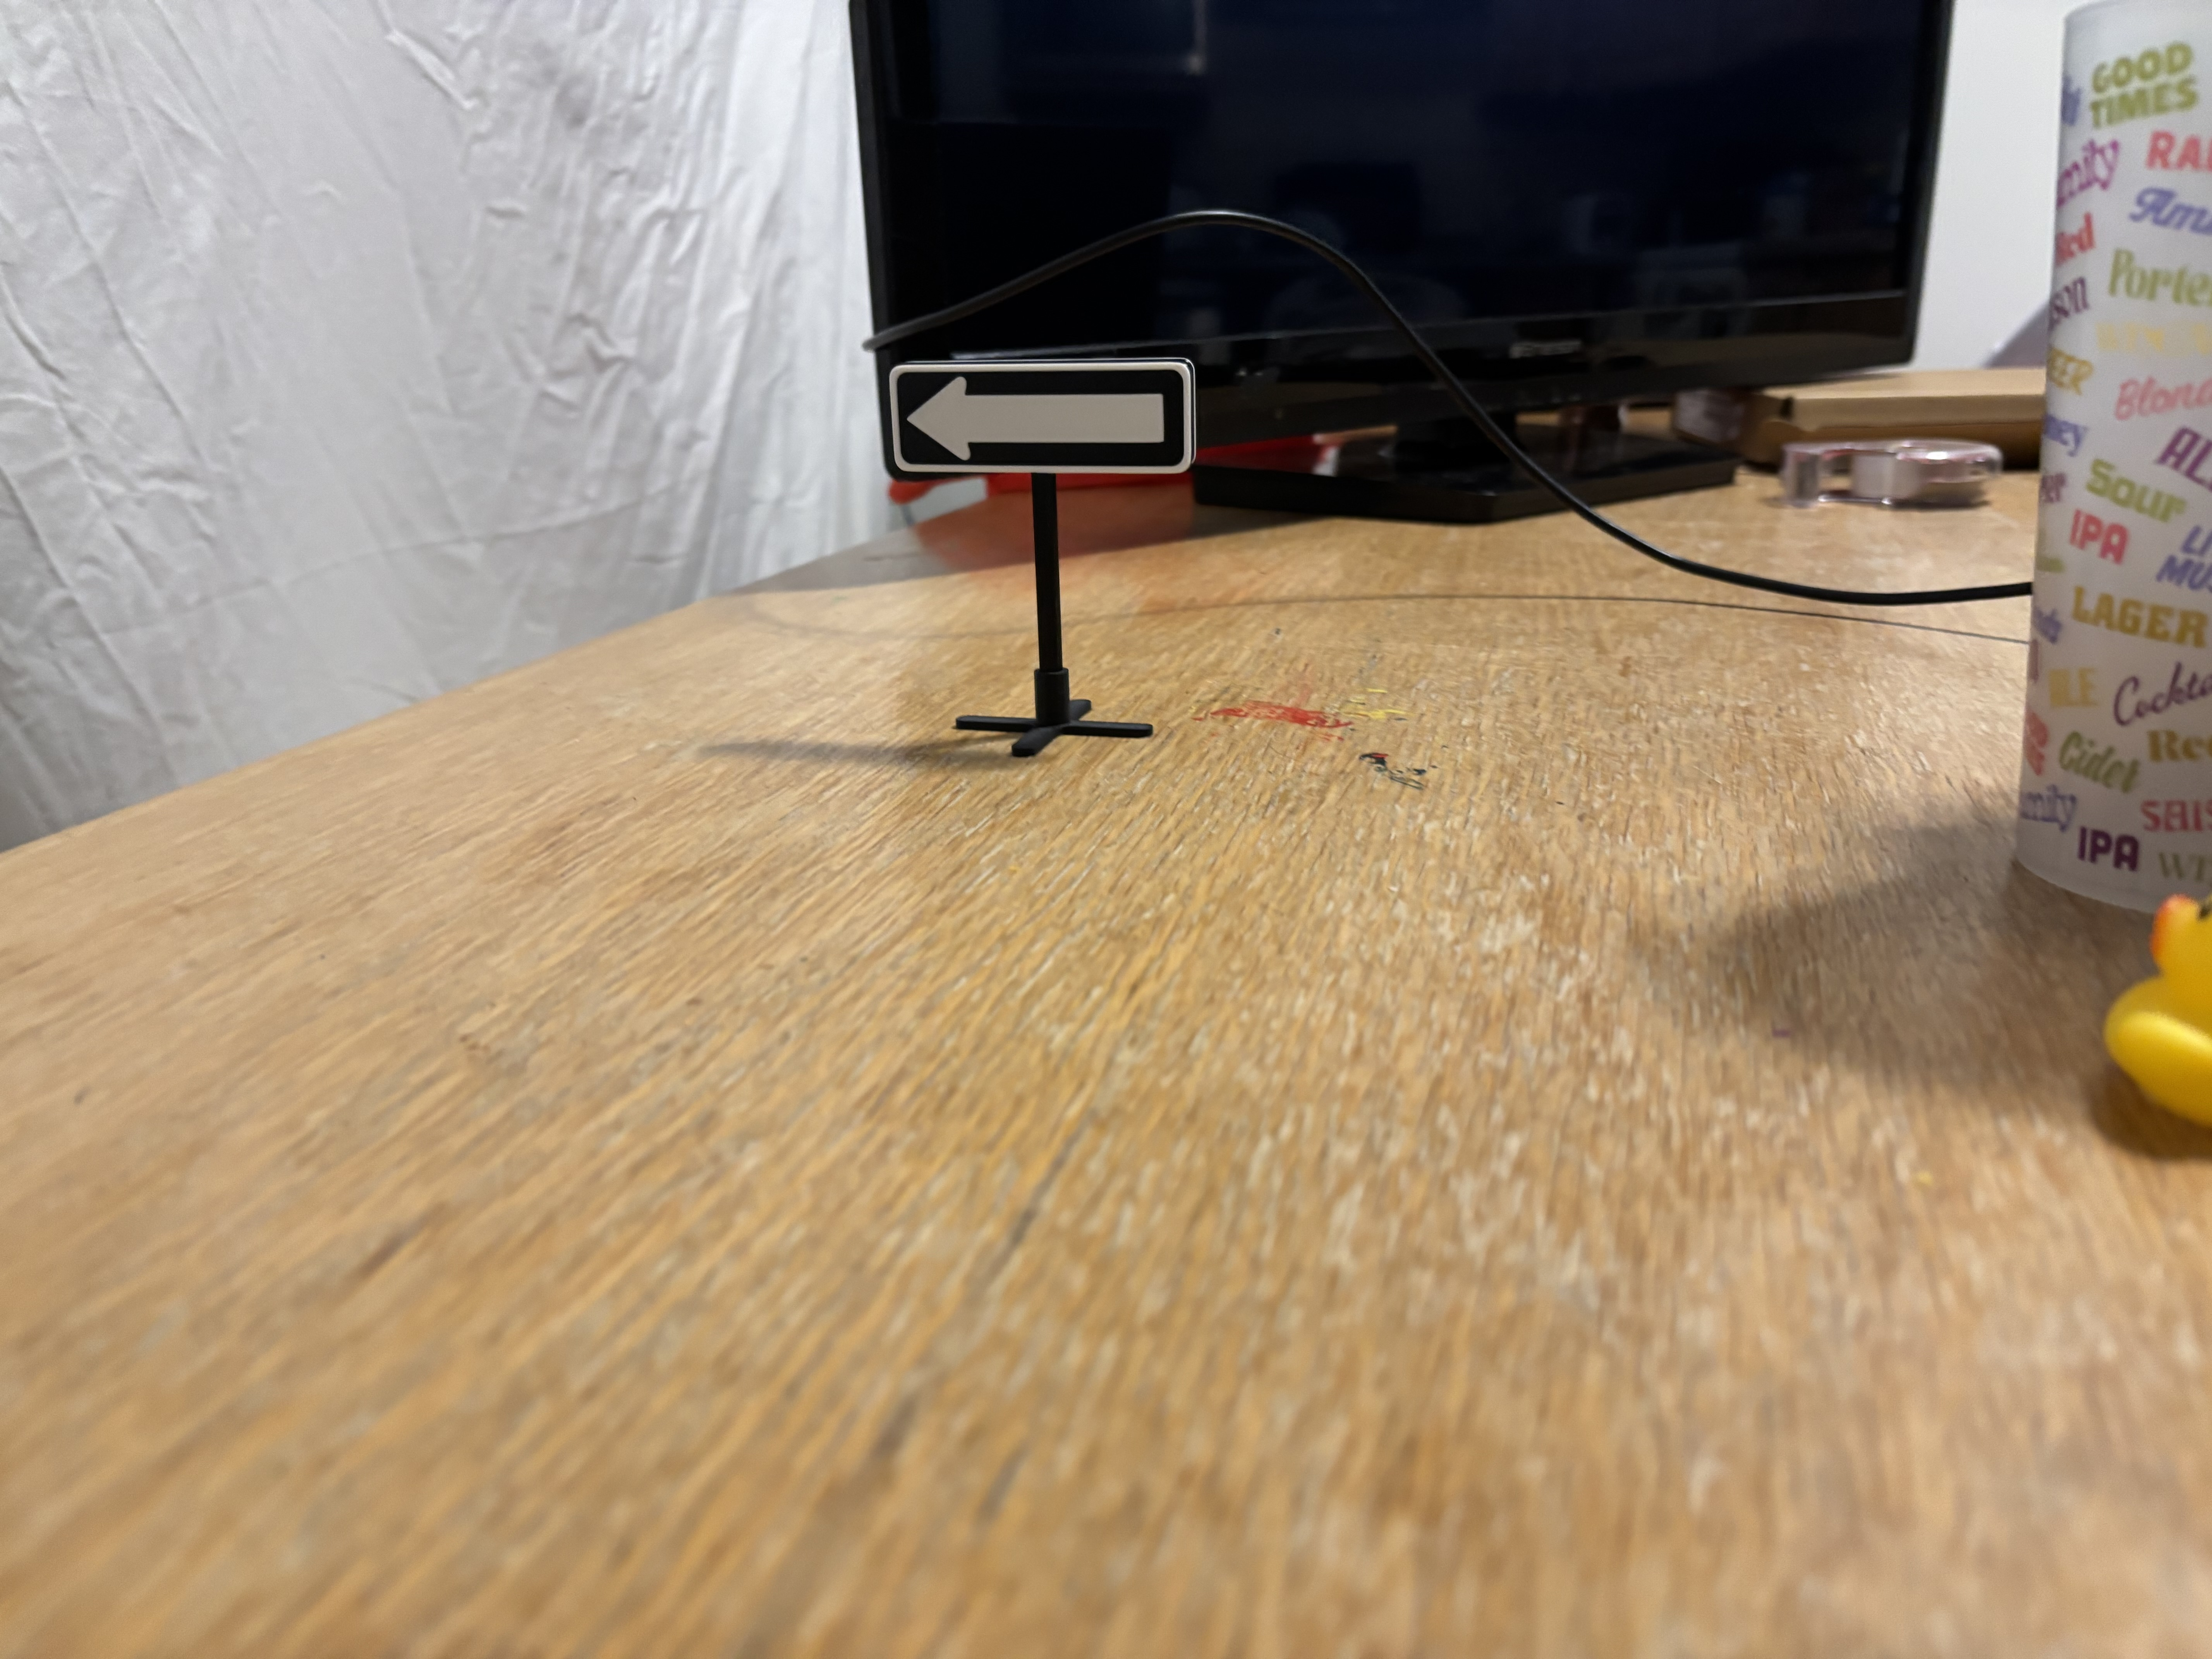sign_oneway_left: (873, 364, 1184, 474)
